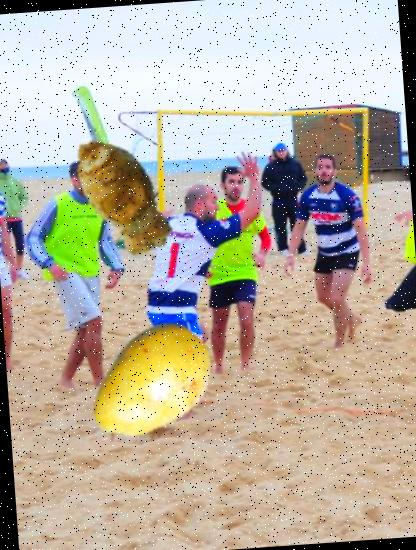Ginger: (52, 124, 194, 266)
Mulberry: (107, 321, 209, 424)
Pear: (78, 314, 222, 458)
